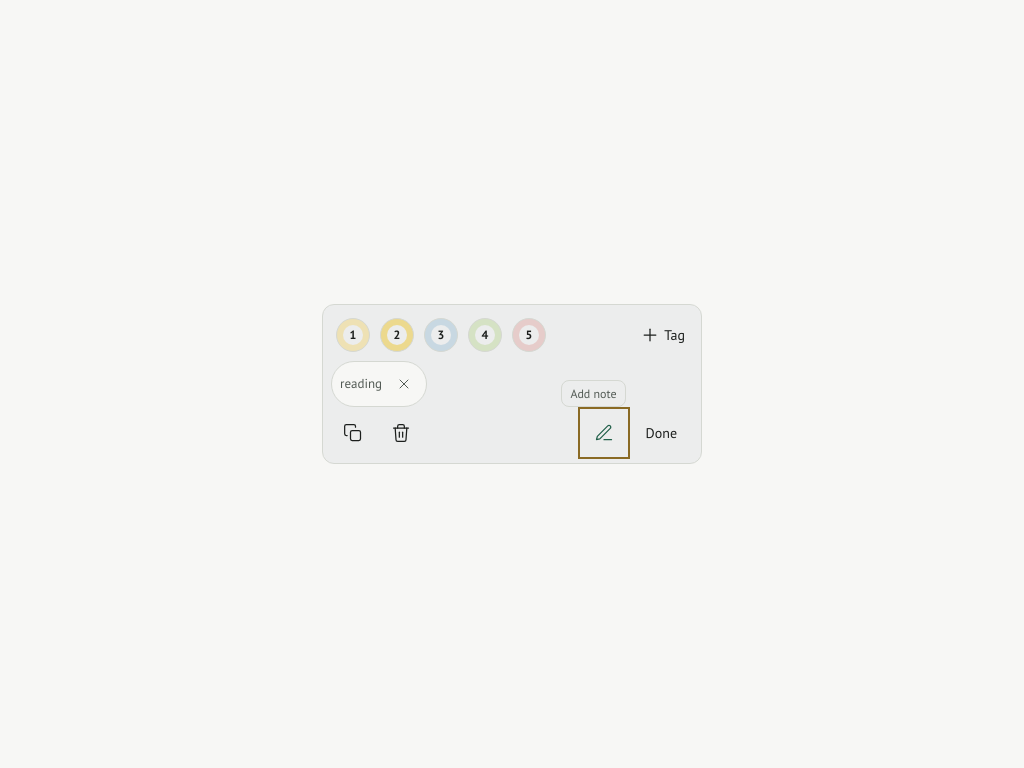
Test: annotation panel slot pills (issue #222) › shows tag names as pills and + Tag swaps the slot row for the field in place
This screenshot has width=1024, height=768.
Expected: the text "reading" is shown, [340, 375, 382, 393]
Click the button with aria-label "Add tag": (663, 335) [632, 313, 693, 357]
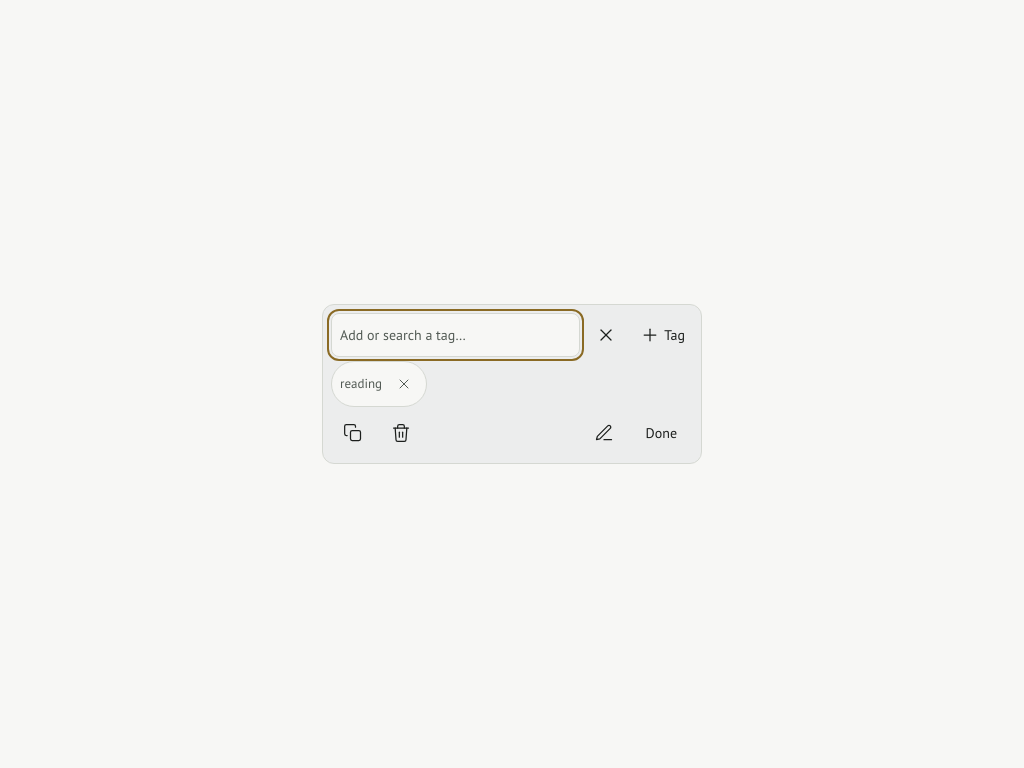
Now the element with class "highlight-slot-picker" is gone
Click the button named "Done adding tags": (606, 335) [584, 313, 628, 357]
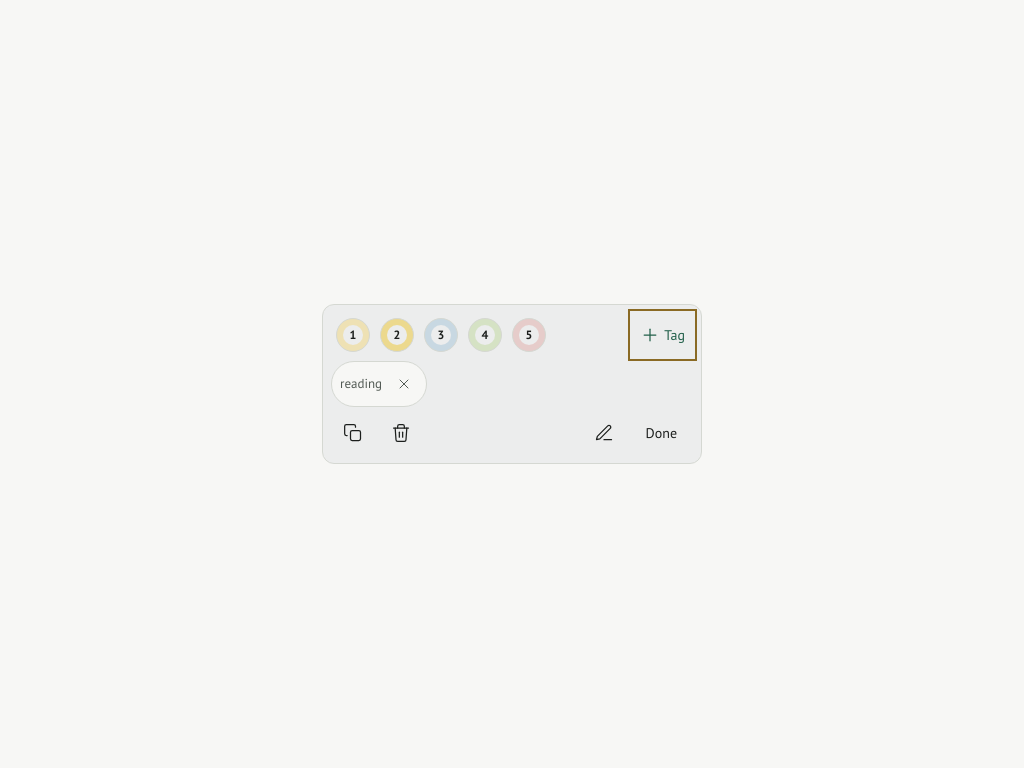
Now the dropdown is gone
Now the element with class "highlight-slot-picker" is shown, box [331, 313, 551, 357]
